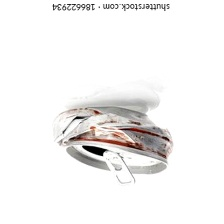can: (48, 105, 176, 189)
